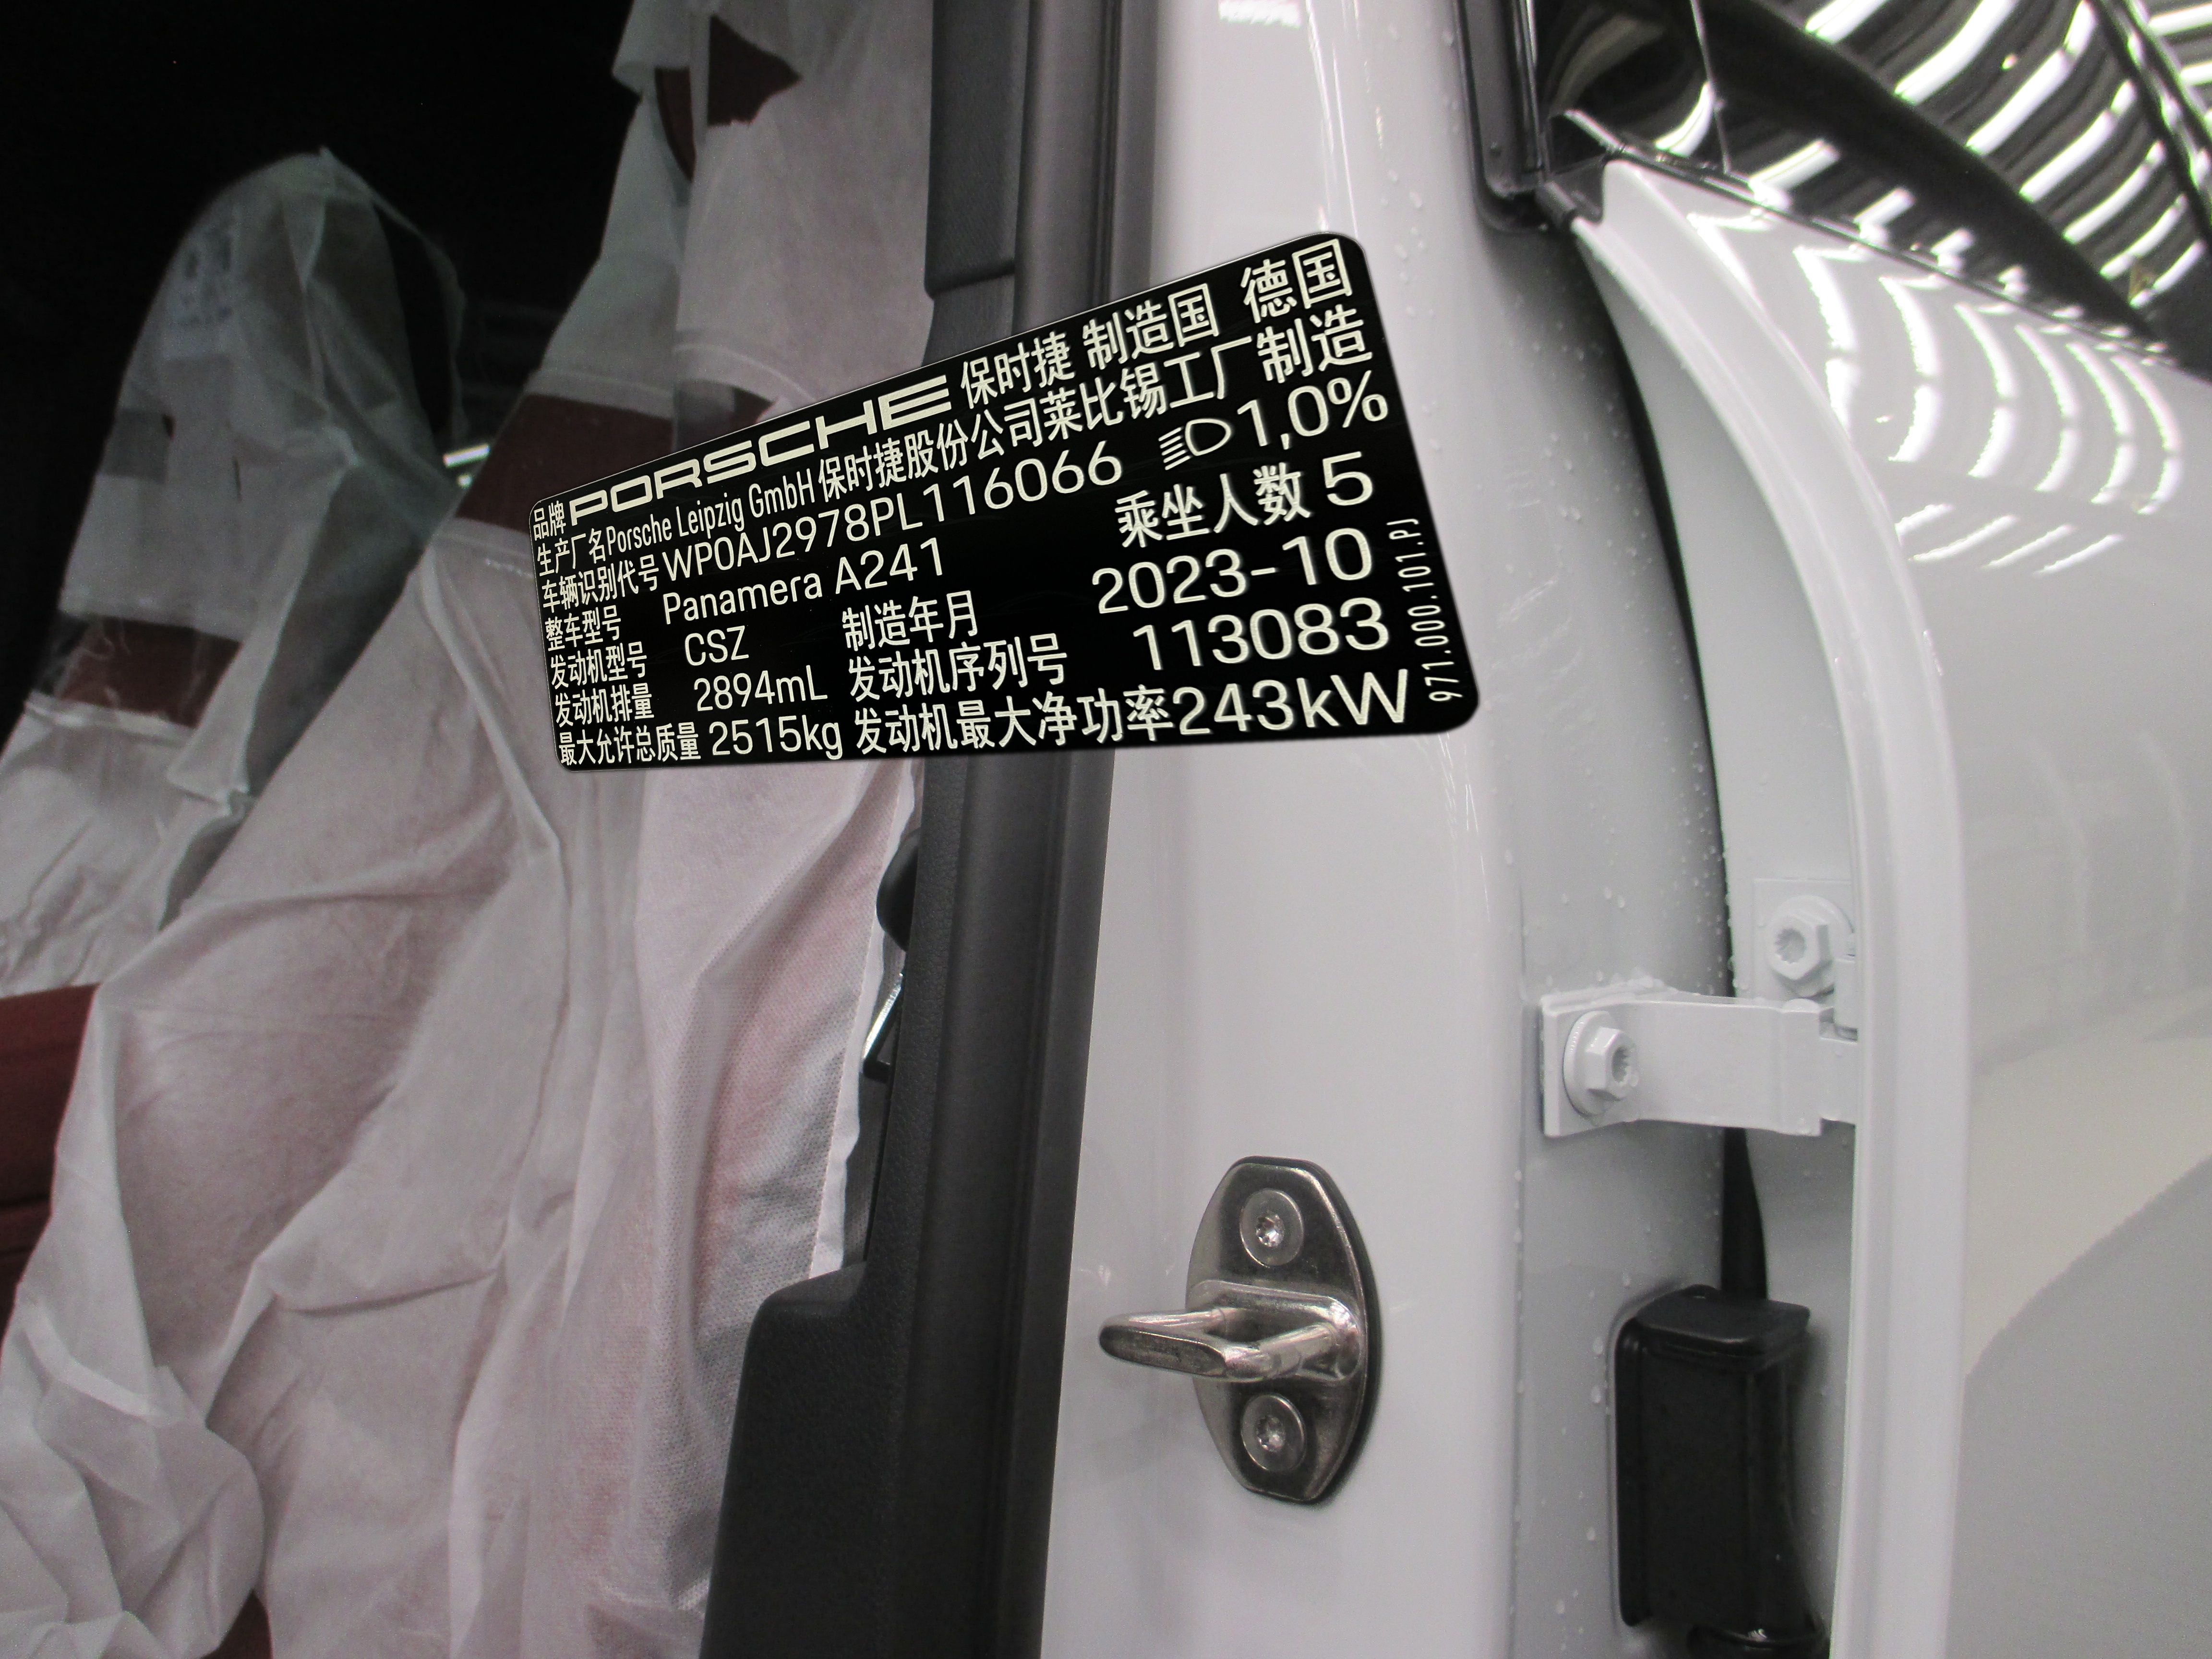Typlabel-China: (529, 232, 1479, 772)
